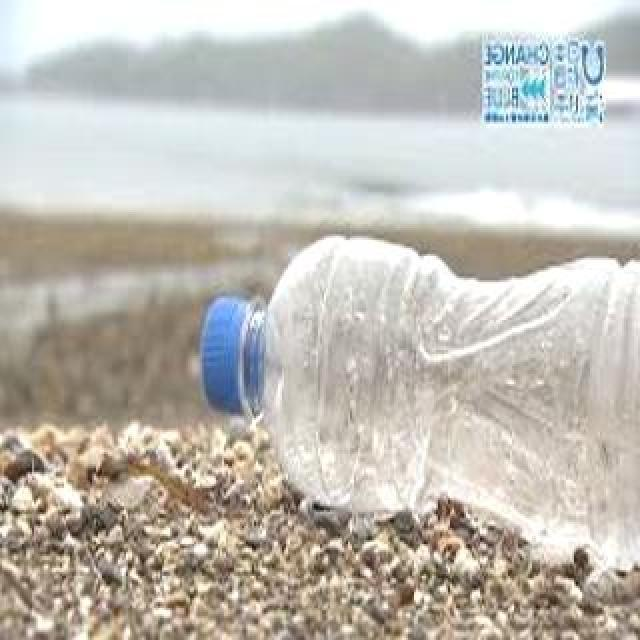Pet_Bottle: (194, 230, 640, 572)
